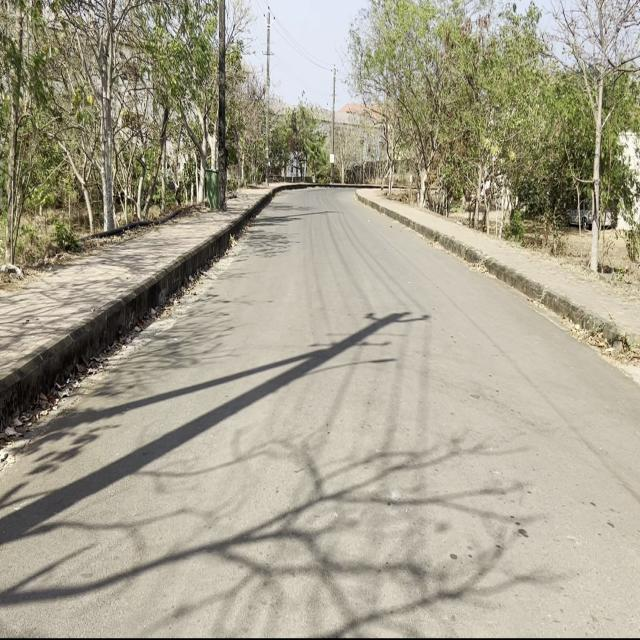Road: (4, 188, 637, 632)
